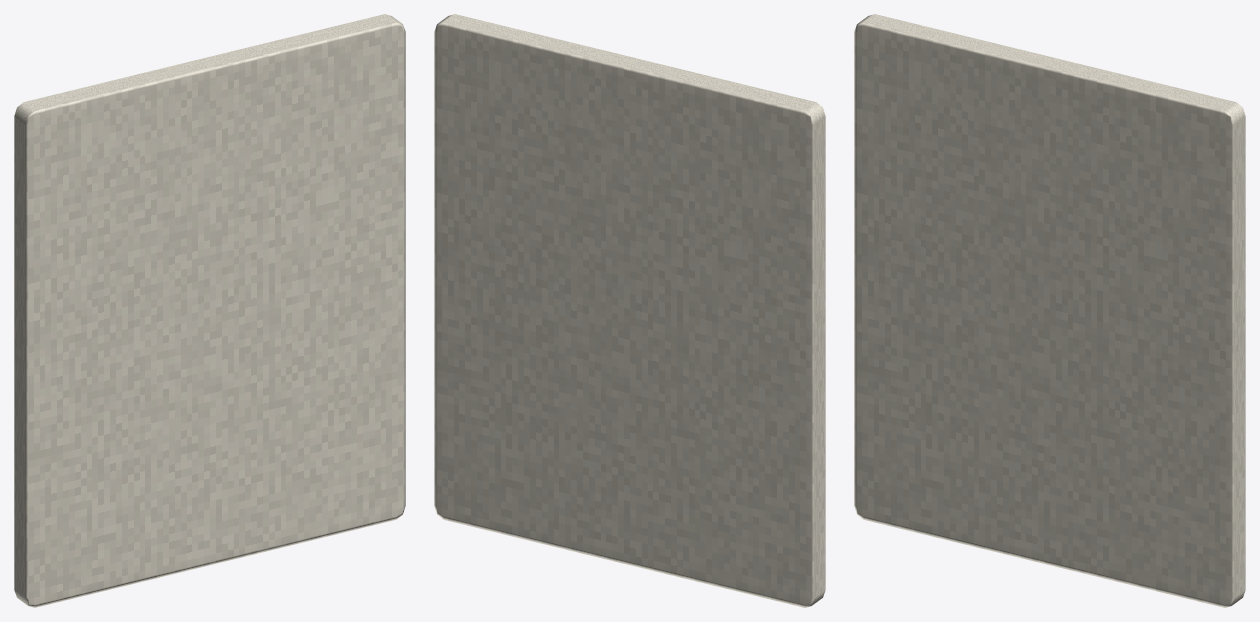
File: intact-wall.glb
The picture shows the model from 3 angles, left to right: view 1: azimuth 30°, elevation 25°; view 2: azimuth 150°, elevation 25°; view 3: azimuth 330°, elevation 25°; orthographic projection.
Parts seen in each view (by area): view 1: panel; view 2: panel; view 3: panel.
Boxes of the visible parts, bbox=[...] form: panel: bbox=[14, 14, 405, 607]; panel: bbox=[434, 14, 825, 607]; panel: bbox=[854, 14, 1245, 607].
Bounding box in the file's own units: 2.4 × 3 × 0.13.
1 material, 1 textured.
